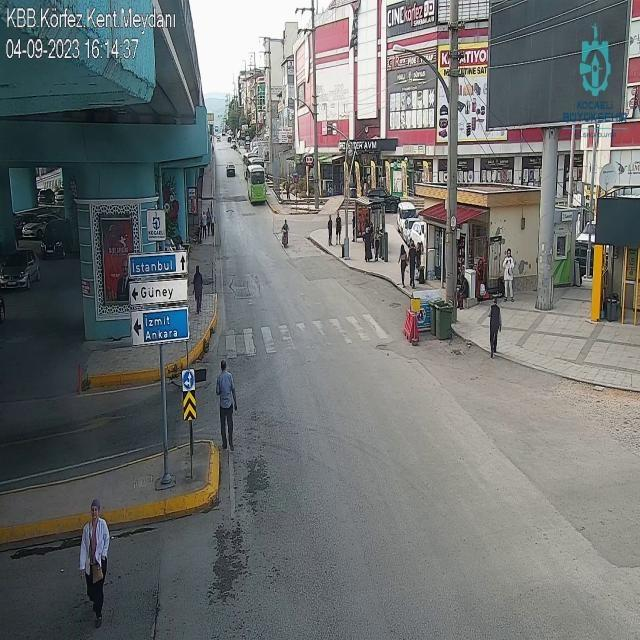Bus: (245, 164, 268, 207)
Car: (1, 249, 42, 293), (40, 220, 74, 258), (21, 213, 66, 241), (368, 188, 402, 213), (37, 188, 57, 206), (225, 162, 236, 178)
